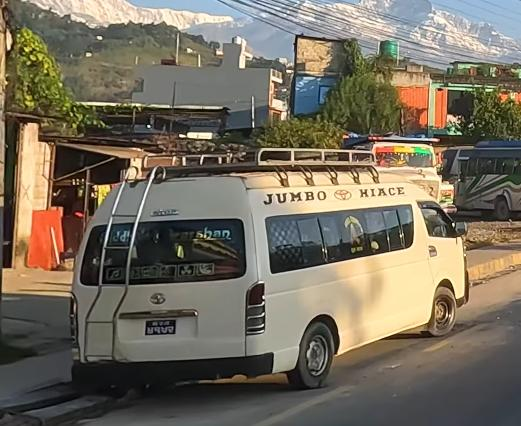bus: (446, 140, 521, 218)
micro_bus: (64, 144, 474, 392)
